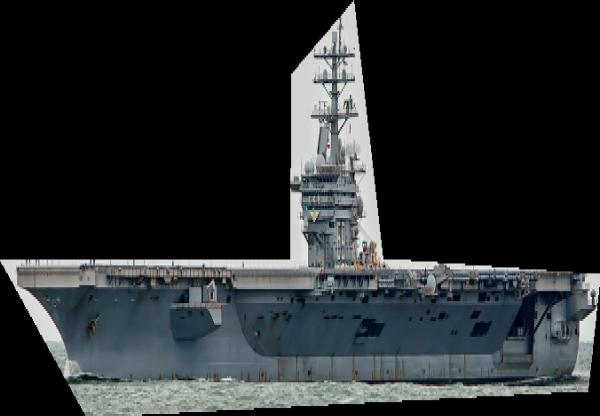Aircraft Carrier: (0, 1, 600, 416)
